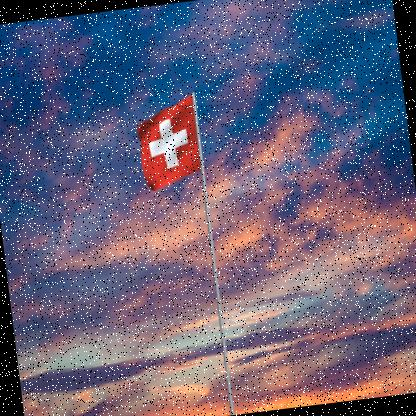ch: (133, 95, 204, 194)
